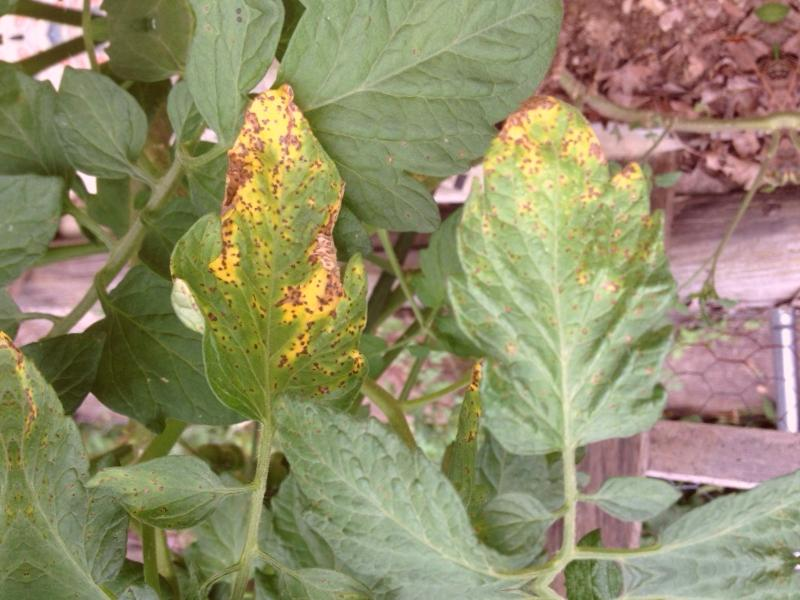Tomato Septoria leaf spot: (415, 69, 694, 463), (147, 71, 381, 438)
